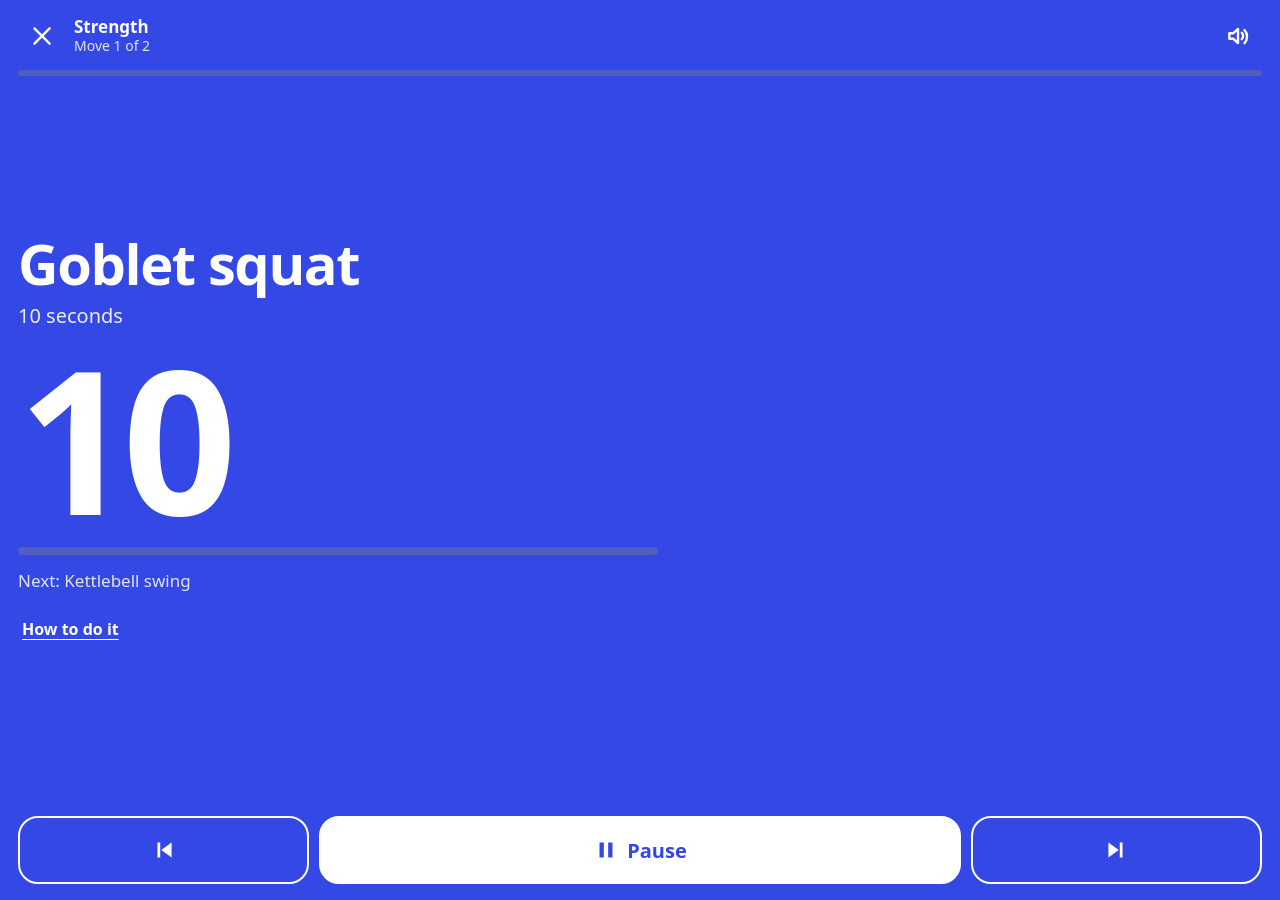
the player › asks before abandoning a session
Click the button named "End session": coordinates (42, 36) x1=18 y1=12 x2=66 y2=60
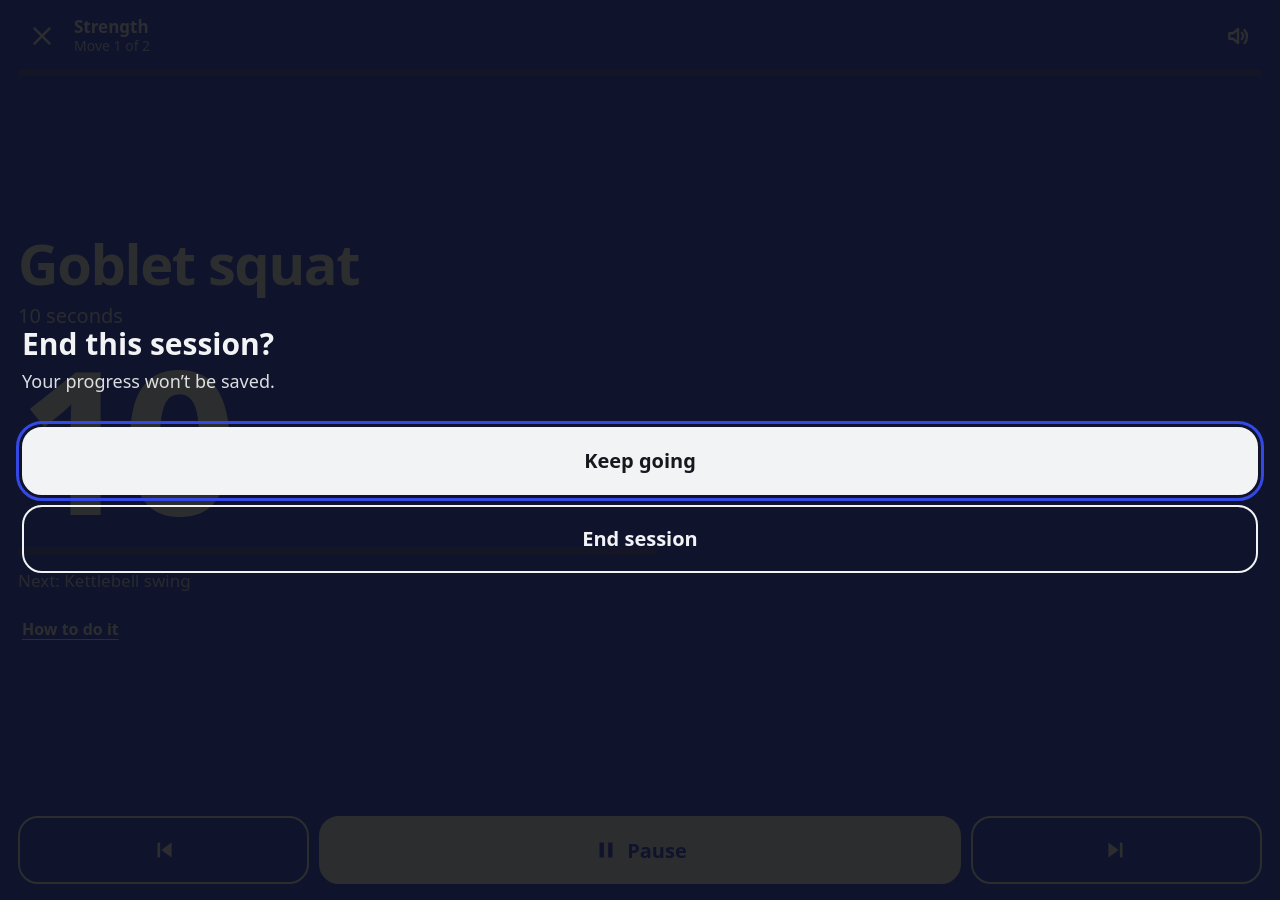
expect the heading "End this session?" is shown: met, box x1=22 y1=324 x2=274 y2=364
Click the button "Keep going": coordinates (640, 460) x1=22 y1=426 x2=1258 y2=494
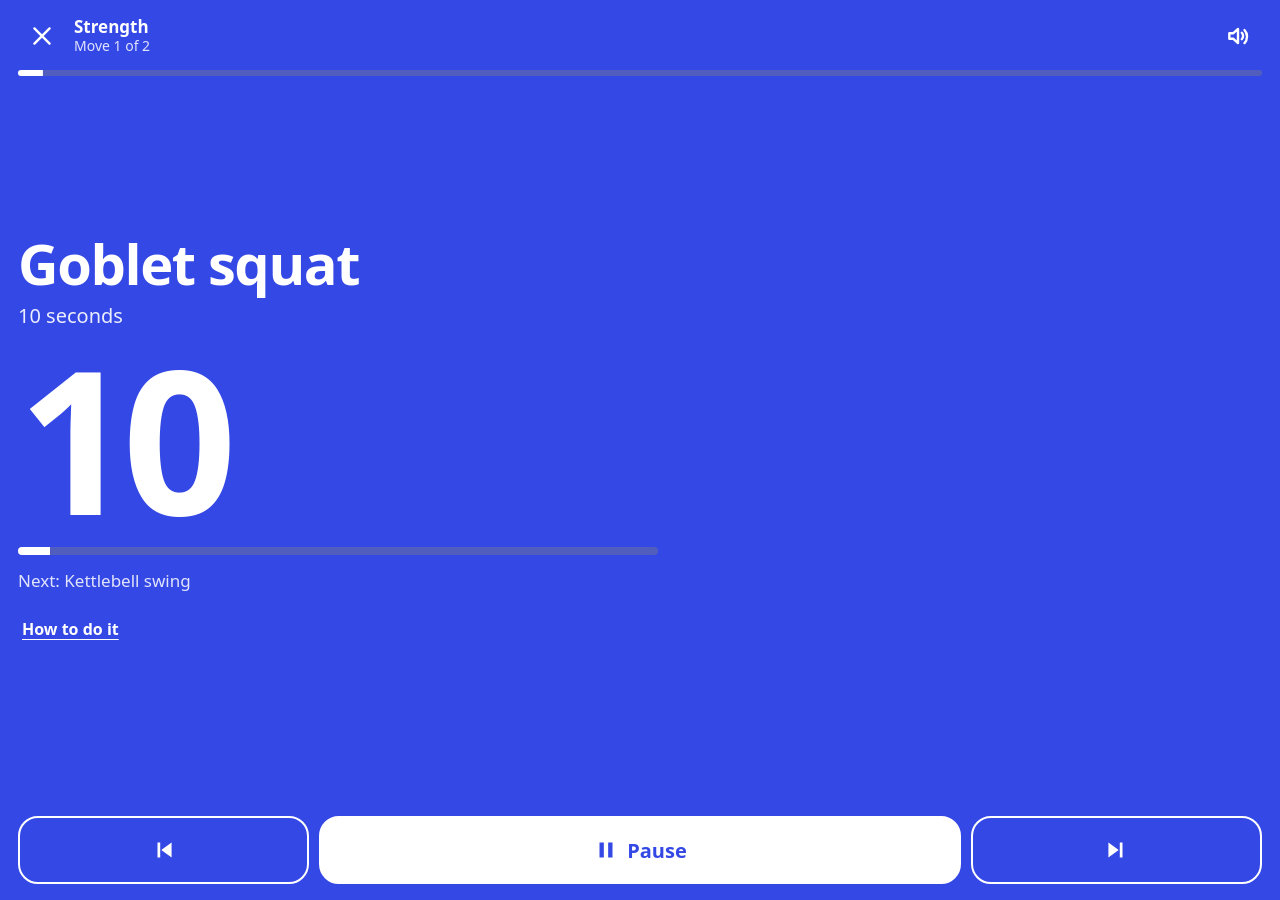
expect the heading "End this session?" is gone: met
